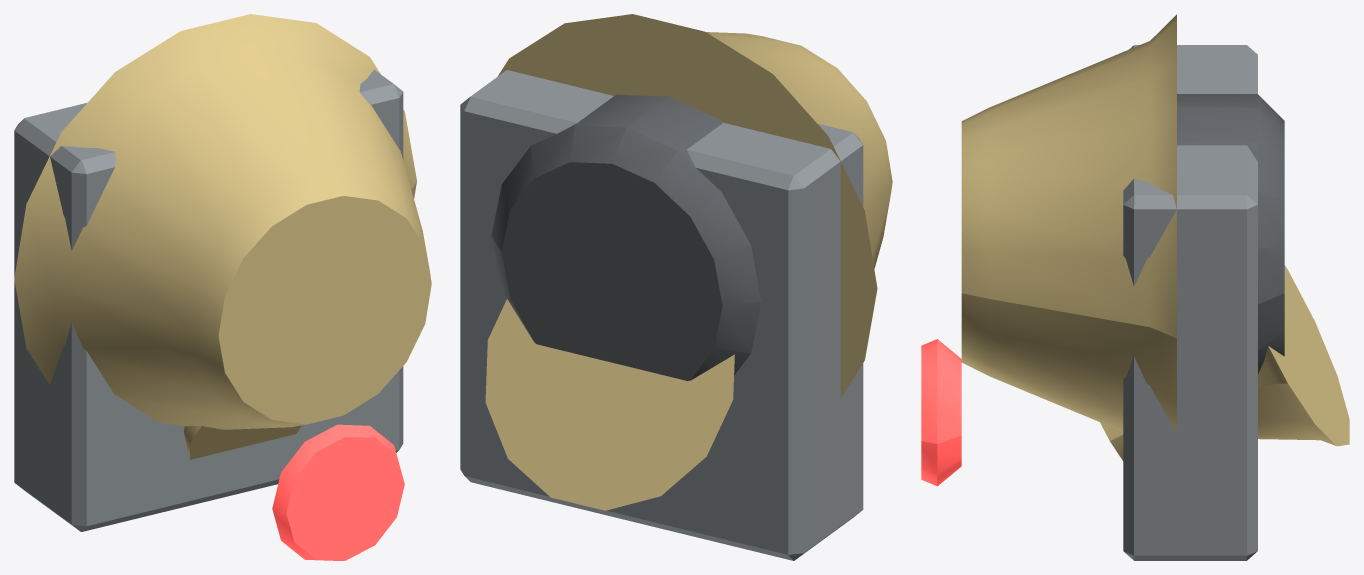
Rendered from submarine-interior-and-control-room-klaxon-with-alarm--d18a50a8__36490.glb.
3 renders of one model, left to right at view 1: azimuth 30°, elevation 25°; view 2: azimuth 150°, elevation 25°; view 3: azimuth 270°, elevation 25°, orthographic. The views are drawn at different scales.
Visible parts, largest first — view 1: klaxon-with-alarm-push; view 2: klaxon-with-alarm-push; view 3: klaxon-with-alarm-push.
Part boxes in pixels (x1,y1,x2,y2): klaxon-with-alarm-push: [14, 14, 431, 560]; klaxon-with-alarm-push: [460, 14, 892, 560]; klaxon-with-alarm-push: [921, 14, 1349, 560].
Size of the model in its own units: 0.34 by 0.3674 by 0.3182.
